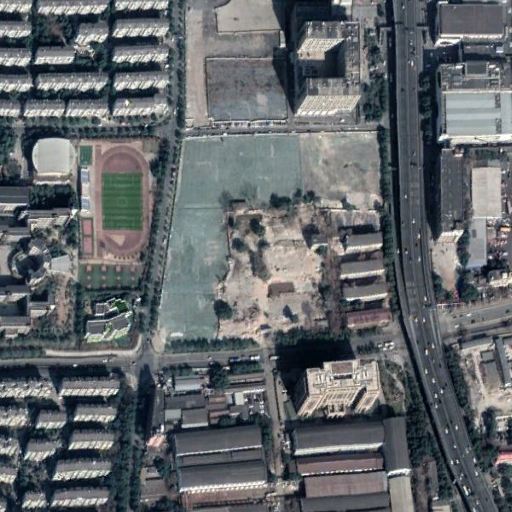cw: (153, 133, 379, 355)
